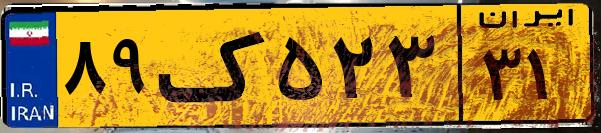1: (525, 38, 570, 115)
2: (330, 28, 385, 110)
3: (385, 28, 445, 110), (475, 38, 525, 113)
5: (270, 28, 330, 110)
8: (57, 26, 110, 100)
9: (110, 28, 158, 98)
ک: (158, 12, 270, 120)
